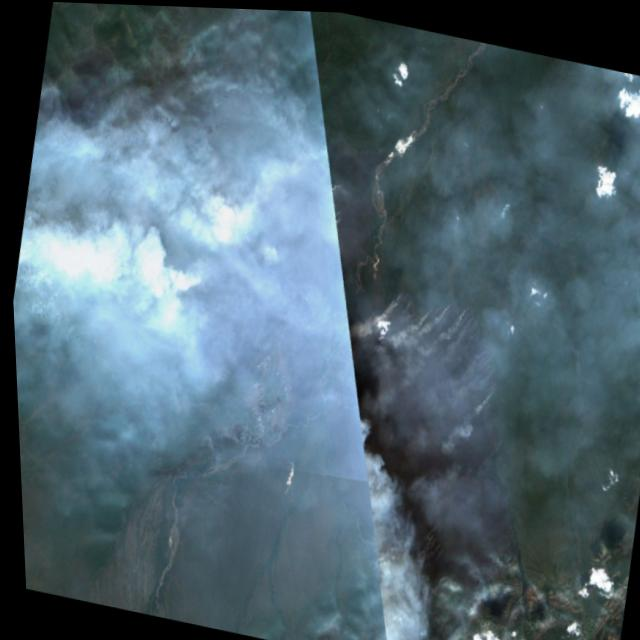fire: (158, 97, 367, 340), (343, 268, 515, 425), (422, 515, 531, 618)
